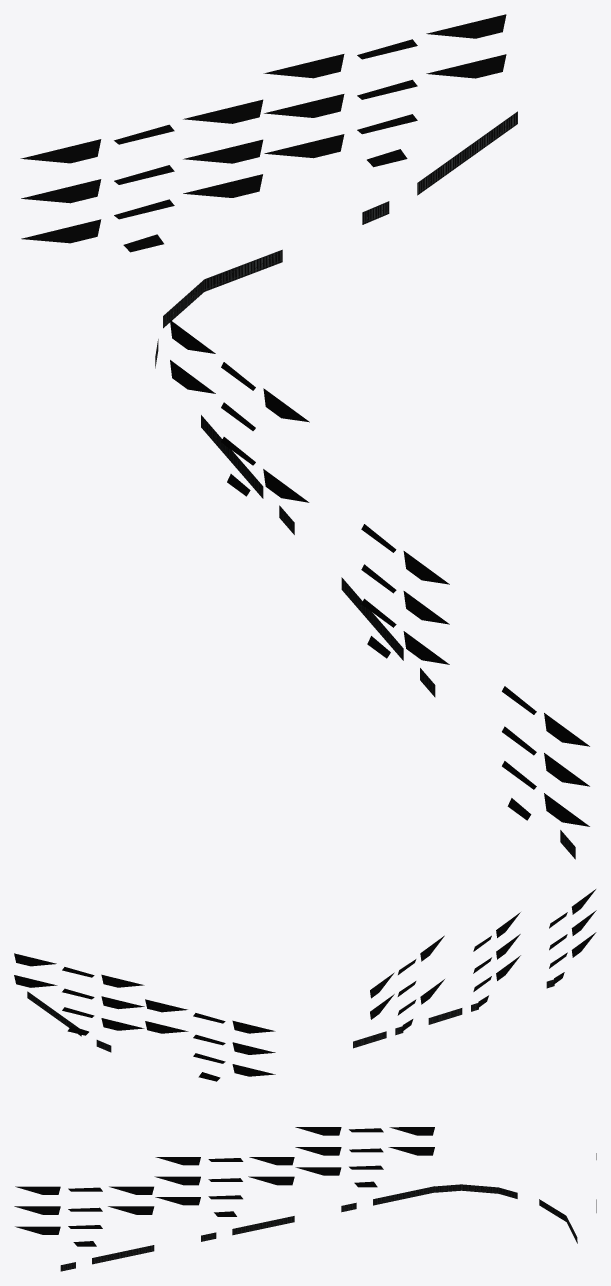
Rendered from beachapartat_lae2.obj.
The picture shows the model from 3 angles, top to bottom: view 1: azimuth 30°, elevation 25°; view 2: azimuth 150°, elevation 25°; view 3: azimuth 270°, elevation 25°; orthographic projection. The views are drawn at different scales.
Parts seen in each view (by area): view 1: BeachApartAT_LAe2; view 2: BeachApartAT_LAe2; view 3: BeachApartAT_LAe2.
Boxes of the visible parts, left/top/right/bottom form: BeachApartAT_LAe2: left=20, top=14, right=589, bottom=859; BeachApartAT_LAe2: left=14, top=889, right=596, bottom=1081; BeachApartAT_LAe2: left=14, top=1127, right=596, bottom=1271.
Bounding box in the file's own units: 44.81 × 29.13 × 90.74.
